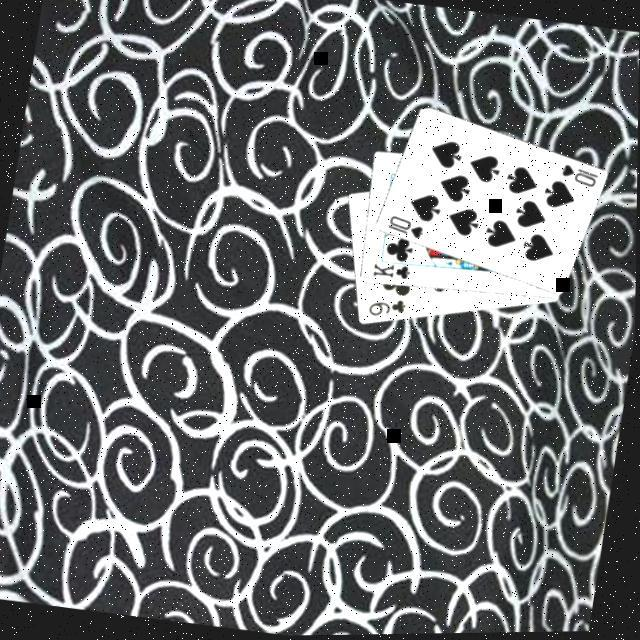10S: (556, 160, 603, 193), (384, 211, 429, 244)
9C: (366, 293, 411, 325)
KC: (370, 255, 419, 285)
